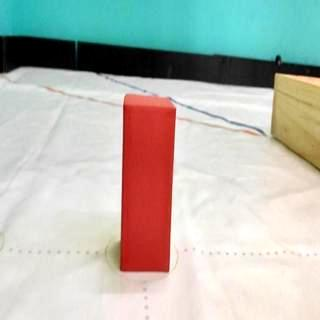redbox: (121, 92, 176, 272)
